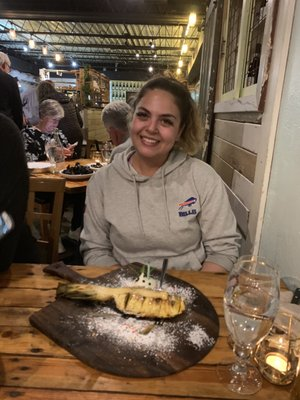curry: (0, 261, 299, 399)
pasta: (25, 171, 66, 267)
sandwich: (26, 264, 217, 378), (217, 257, 281, 394)
